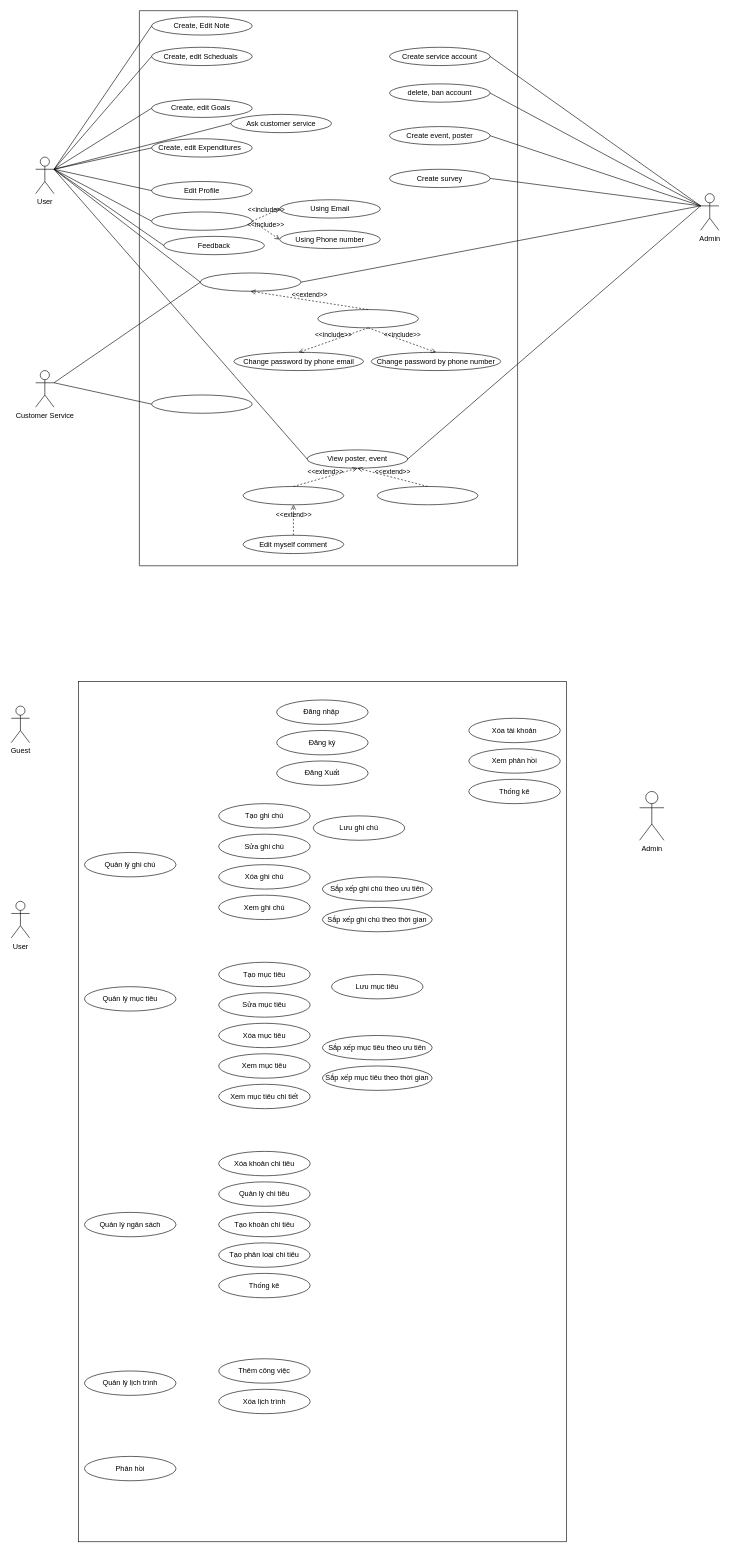
Some shapes in this 730 by 1552 pixel diagram are drawn without their labels. Each missing label, with the centre of its shape:
Answer user question: point (201, 403)
Comment in Poster, Event: point (293, 495)
Forgot password: point (367, 318)
Like Poster, Event: point (427, 495)
Register: point (201, 220)
Sign in: point (250, 281)
